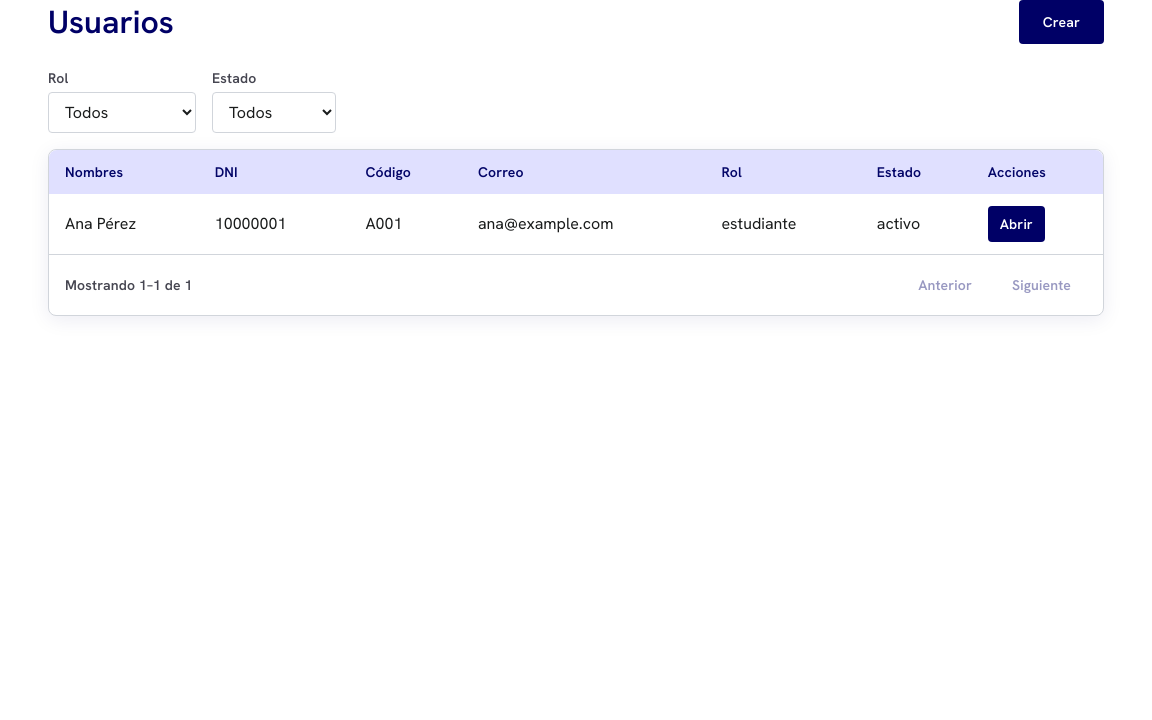
Test: UsuariosPage › [12.2/15.1] "Volver" desde la ficha regresa al listado y vuelve a renderizar TablaGenerica
Expected: the text "Ana Pérez" is shown, [49,194,199,254]
Click the button "Abrir" at (1016, 224), box [988,206,1045,242]
(page scrolled)
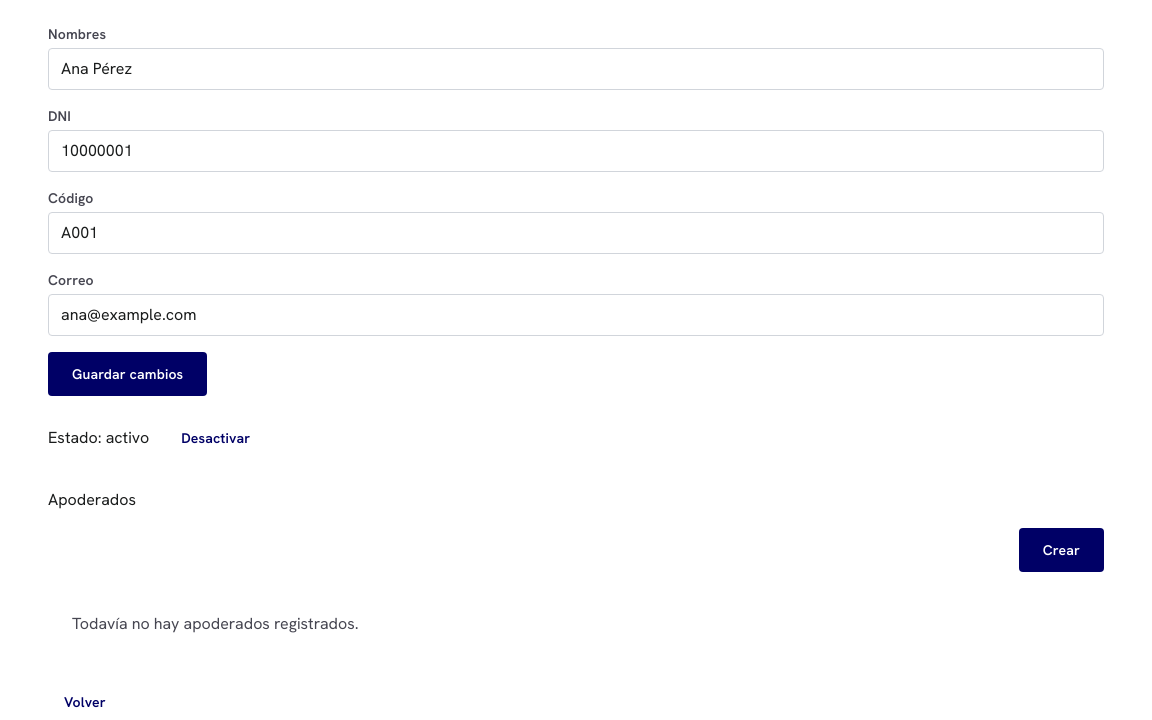
Click the button "Volver" at (85, 702), box [48,684,122,719]
(page scrolled)
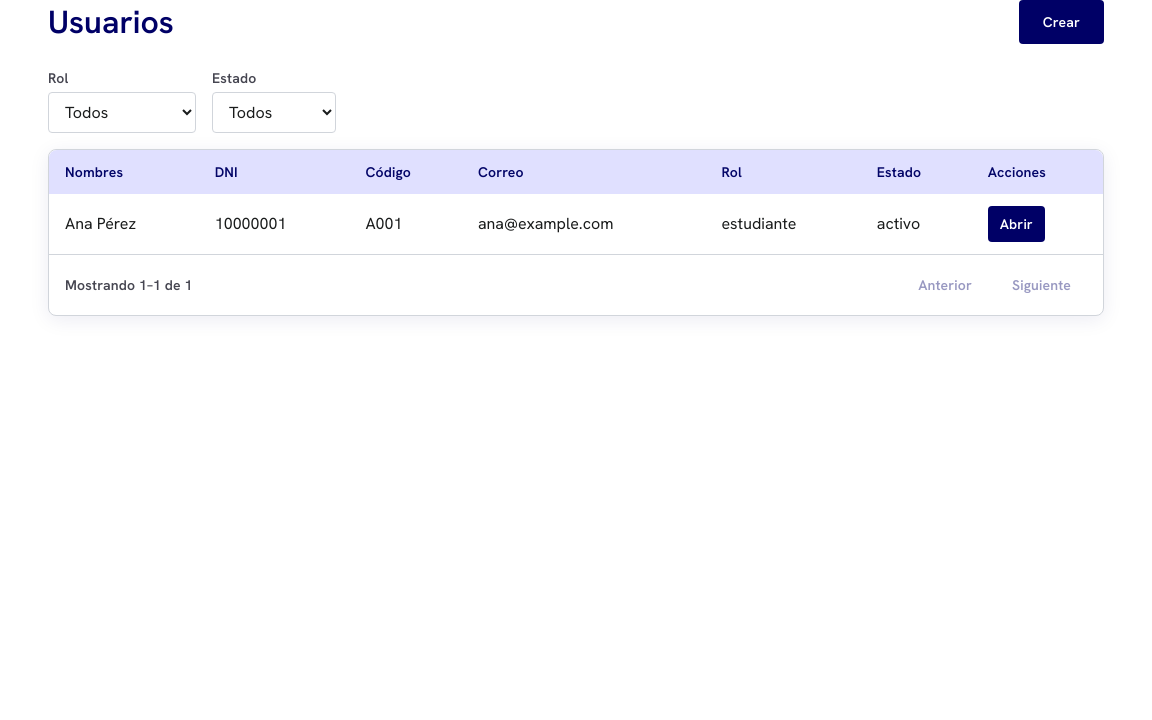
Expected: the text "Ana Pérez" is shown, [49,194,199,254]
Expected: the element with test id "usuarios-page-shell" is shown, [0,0,1151,316]
